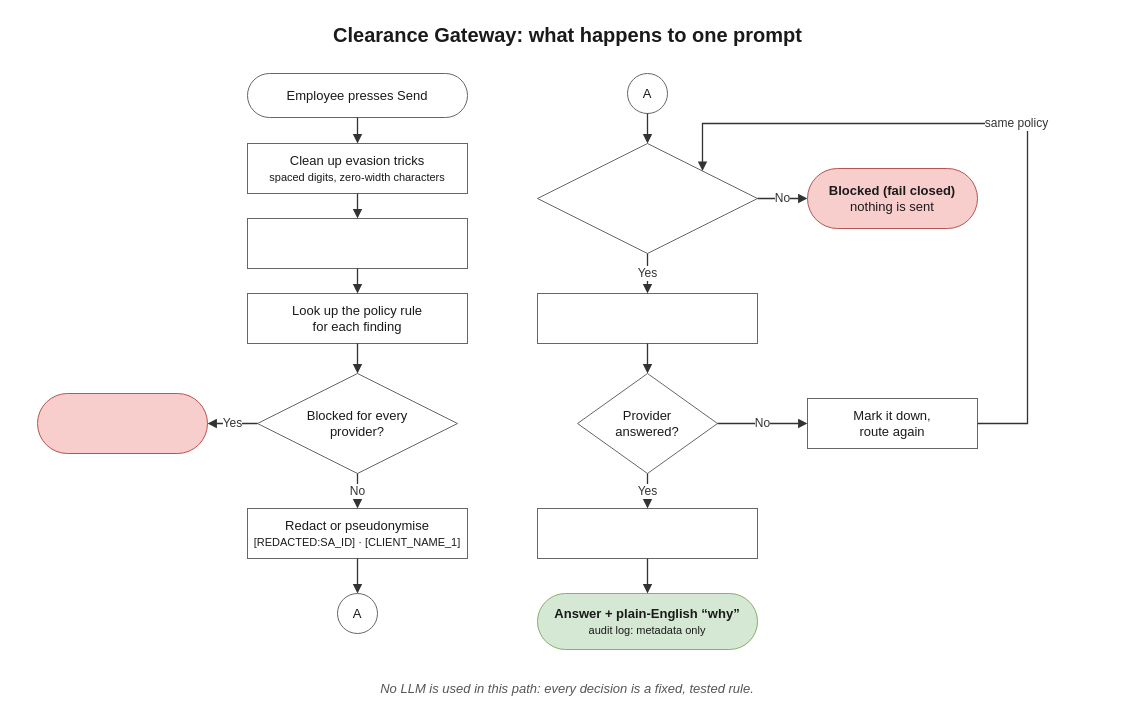
Image size: 1134x720. Some labels were removed from this diagram. Each missing label, with the box of its shape:
Blocked “remove it and try again”: (36, 392, 208, 454)
Check the reply, put the real names back: (536, 508, 758, 558)
Detect sensitive data IDs, cards, accounts, emails, keys, names: (246, 218, 468, 268)
Is a provider up and cleared for this data?: (536, 142, 758, 254)
Send only the redacted text: (536, 292, 758, 344)
